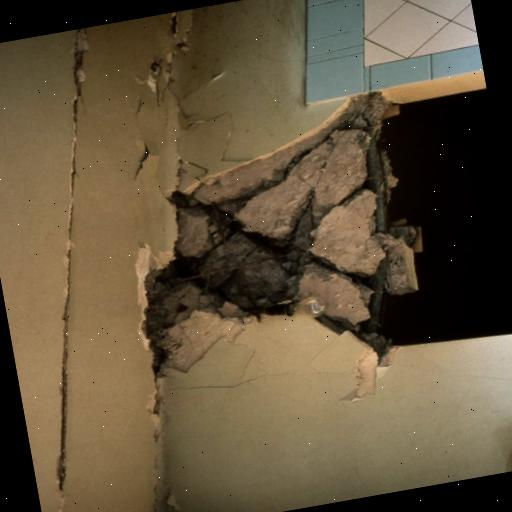spalling: (131, 89, 381, 372), (43, 29, 105, 510)
